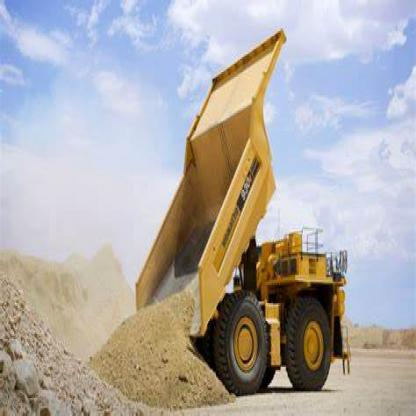dump_truck: (119, 23, 359, 393)
